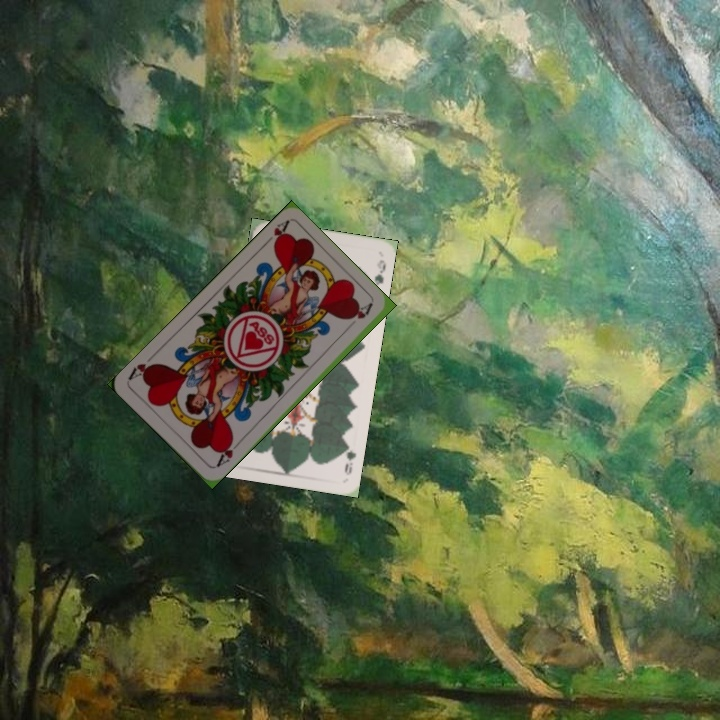G9: (340, 438, 359, 478)
HA: (258, 217, 291, 250), (212, 435, 243, 470)
